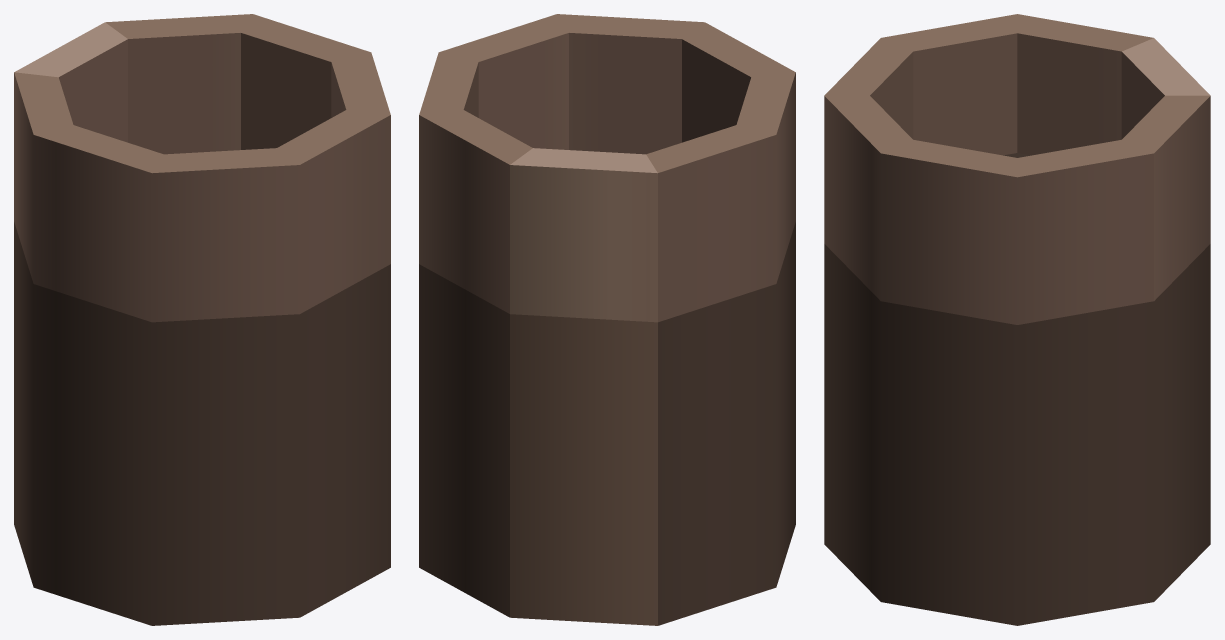
Rendered from Object_Cup.fbx.
The picture shows the model from 3 angles, left to right: view 1: azimuth 30°, elevation 25°; view 2: azimuth 150°, elevation 25°; view 3: azimuth 270°, elevation 25°; orthographic projection.
Visible parts, largest first — view 1: Cylinder002; view 2: Cylinder002; view 3: Cylinder002.
Boxes of the visible parts, box(x1,y1,x2,y2) form: Cylinder002: box(14, 14, 390, 625); Cylinder002: box(419, 14, 795, 625); Cylinder002: box(824, 14, 1210, 625).
Bounding box in the file's own units: 2.8 × 3.58 × 2.8.
1 material, 1 textured.
